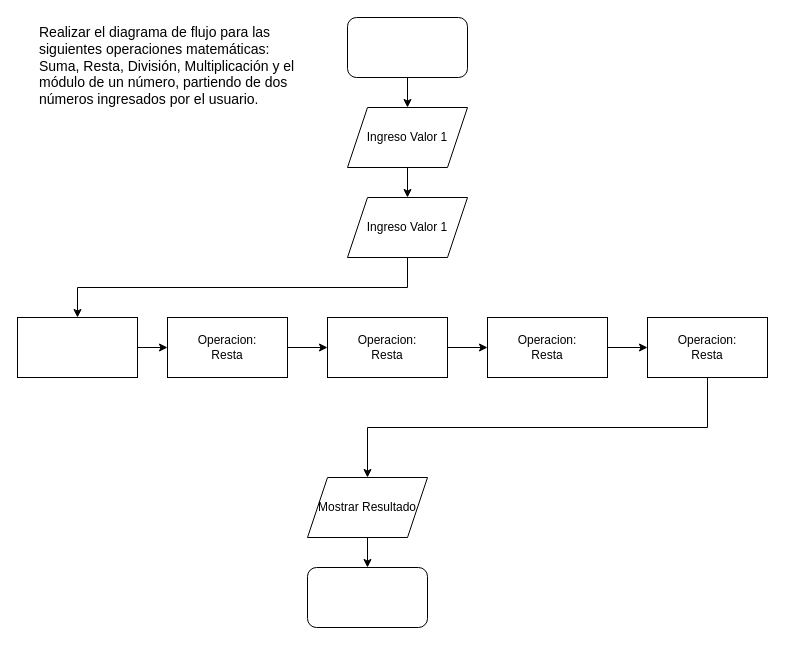
This 785x645 diagram has some shape labels left out. Here are the shapes that lost their labels. From the top down, the centre of each, then its label:
point (407, 47): Inicio
point (77, 347): Operacion: Suma
point (367, 597): Fin
